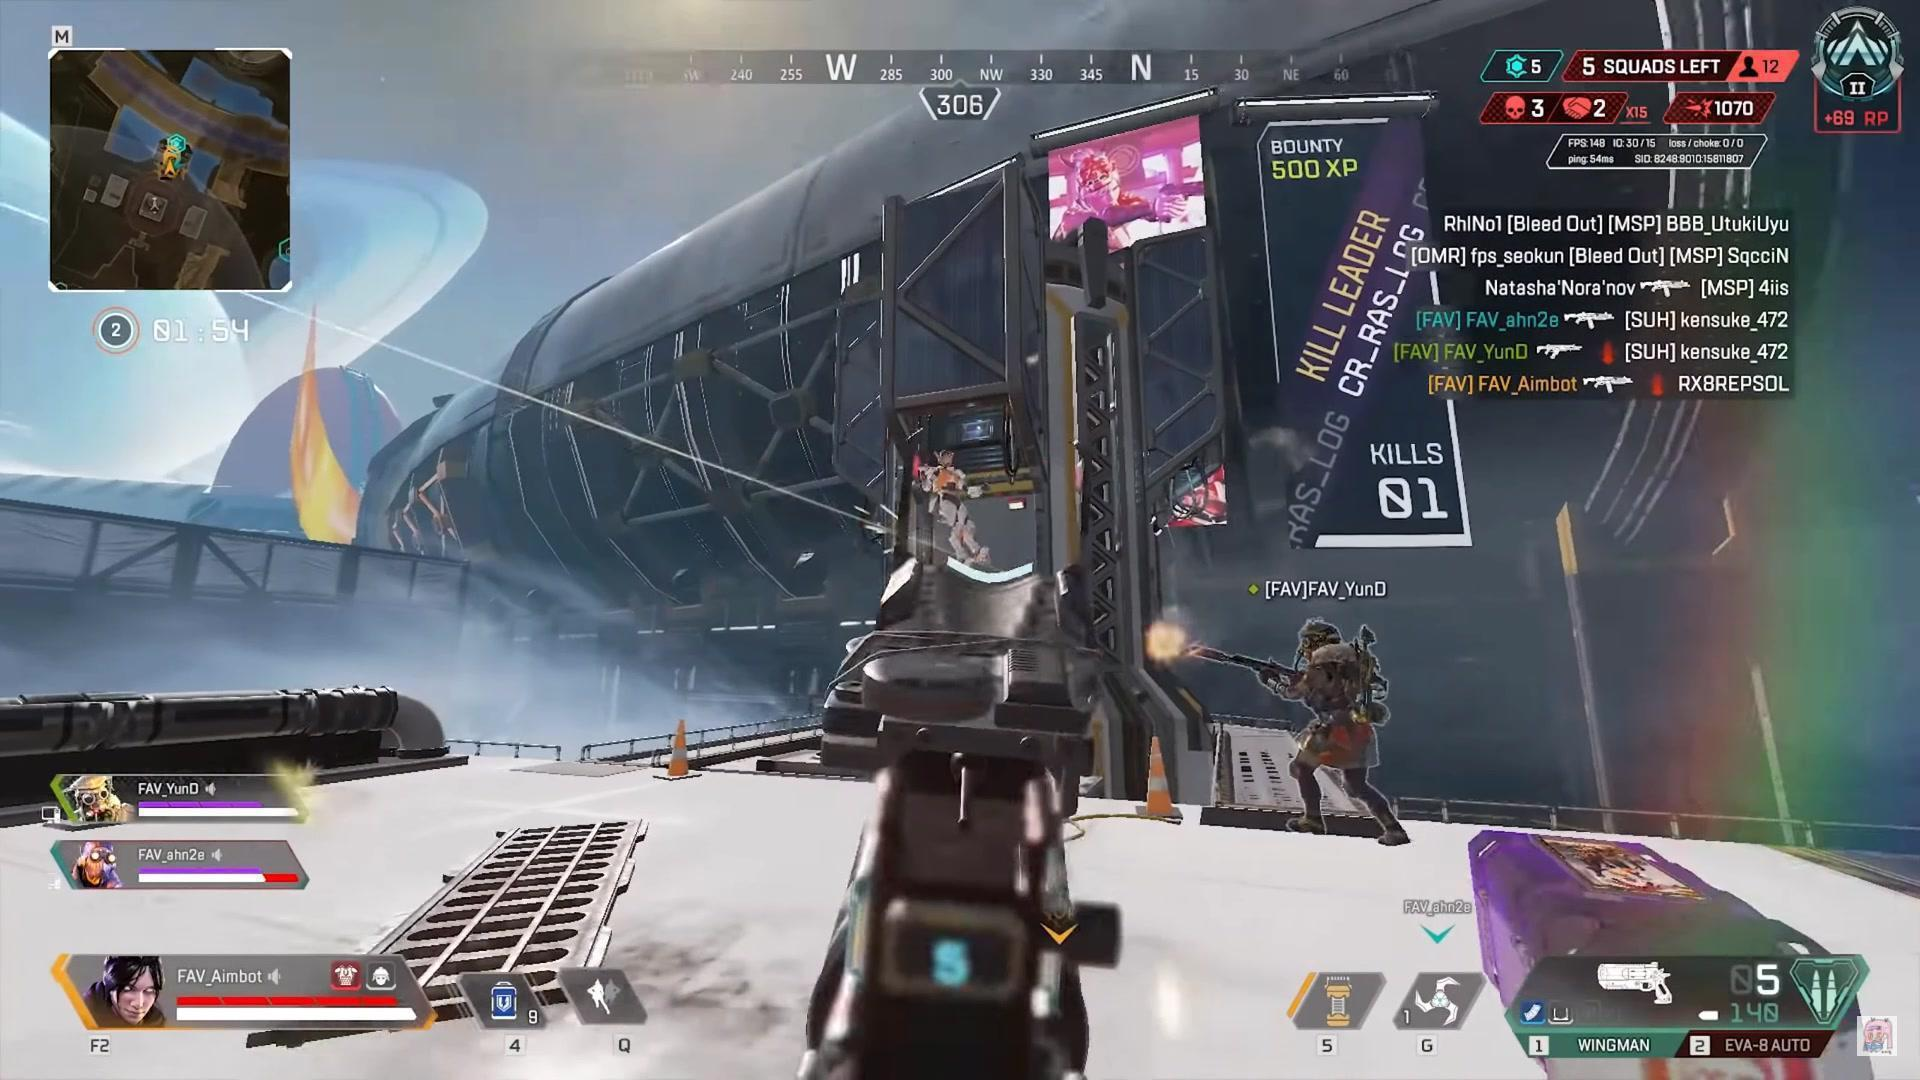avatar: (1285, 618, 1414, 848), (920, 447, 980, 569)
